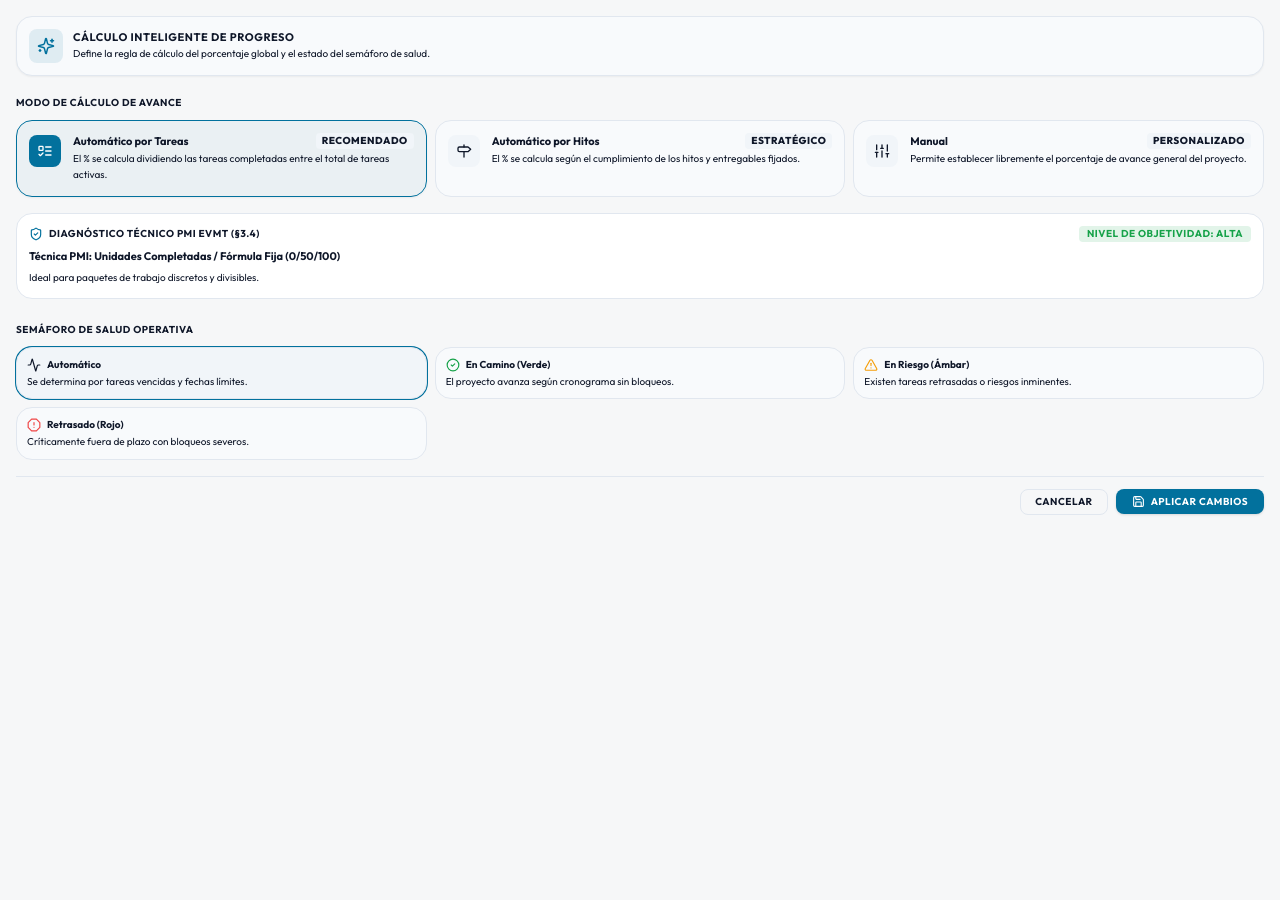
Test case: ProgressSettingsDrawer PMI EVMT Advisor & Governance › displays dynamic PMI EVMT technique diagnostics for each progress mode
The width and height of the screenshot is (1280, 900).
Expected: the element with test id "progress-settings-pmi-evmt-card" shows "Unidades Completadas / Fórmula Fija (0/50/100)", [94,248,340,262]
Expected: the element with test id "progress-settings-pmi-evmt-card" shows "Nivel de Objetividad: Alta", [16,212,1264,299]
// Switch to milestones mode
Click the text "Automático por Hitos".
click(546, 141)  # box [492,132,600,149]
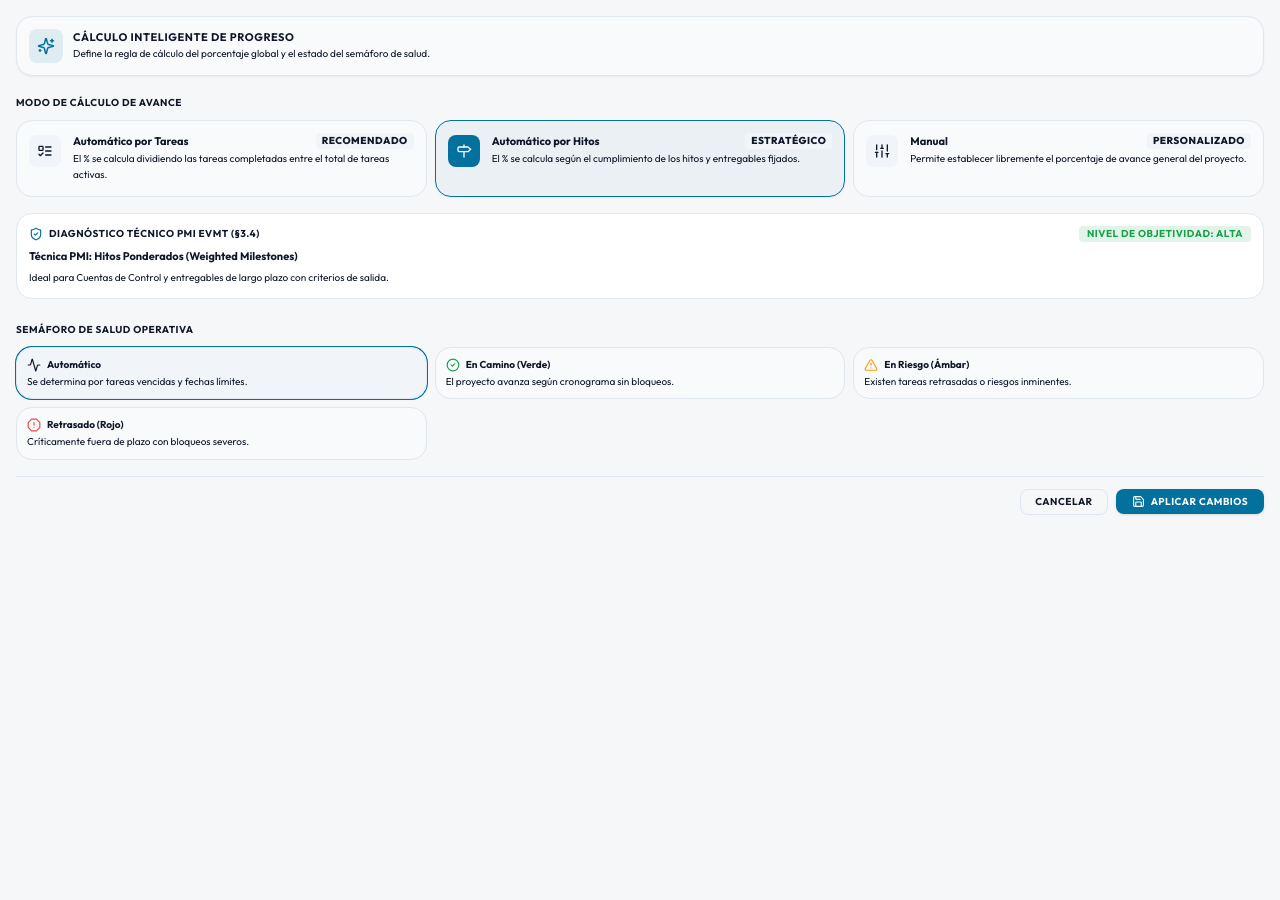
Expected: the element with test id "progress-settings-pmi-evmt-card" shows "Nivel de Objetividad: Alta", [16,212,1264,299]
Expected: the element with test id "progress-settings-pmi-evmt-card" shows "Hitos Ponderados (Weighted Milestones)", [94,248,298,262]
// Switch to manual mode
Click the text "Manual".
click(929, 141)  # box [910,132,948,149]
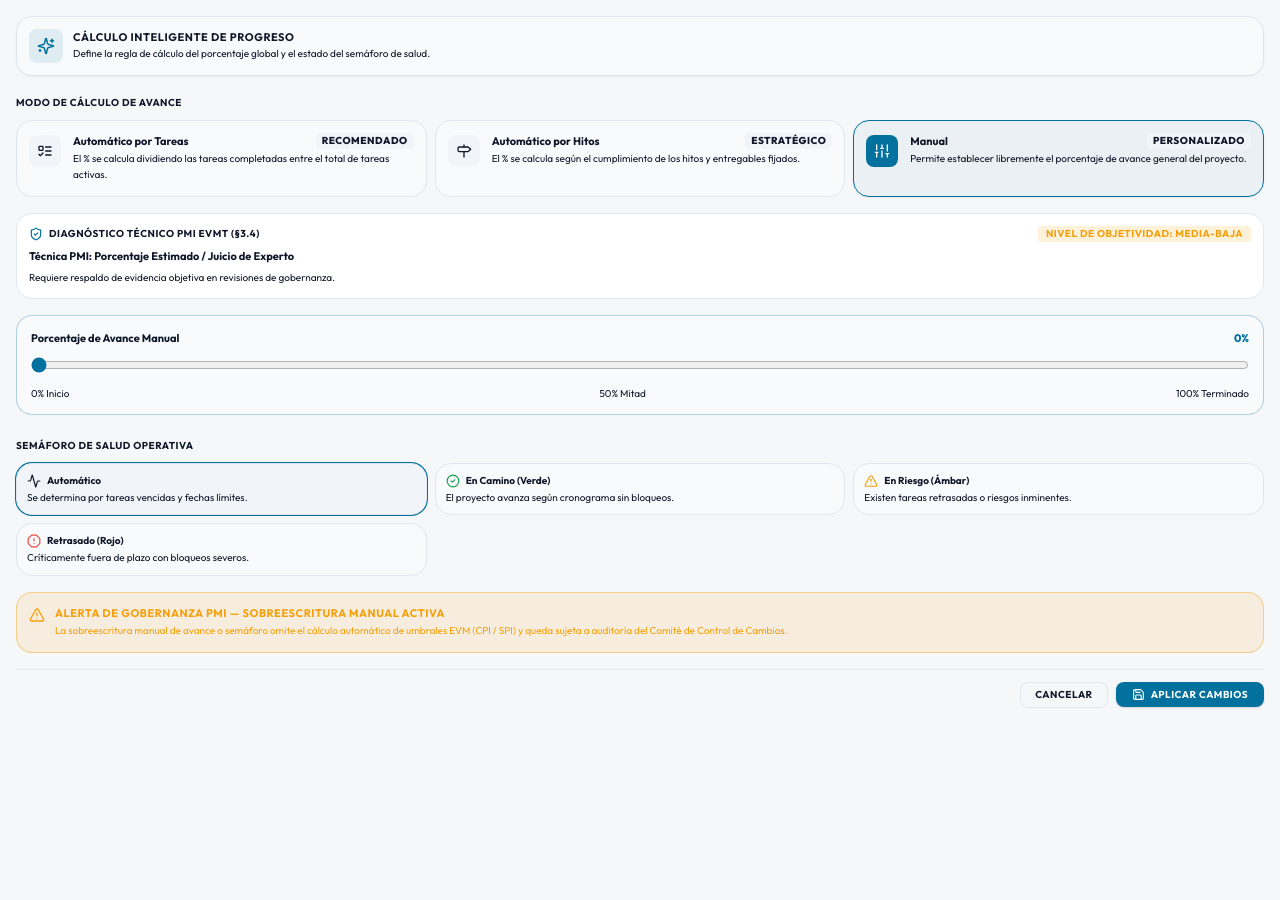
Expected: the element with test id "progress-settings-pmi-evmt-card" shows "Porcentaje Estimado / Juicio de Experto", [94,248,294,262]
Expected: the element with test id "progress-settings-pmi-evmt-card" shows "Nivel de Objetividad: Media-Baja", [16,212,1264,299]
Expected: the element with test id "progress-settings-pmi-override-warning" is shown, [16,592,1264,653]
